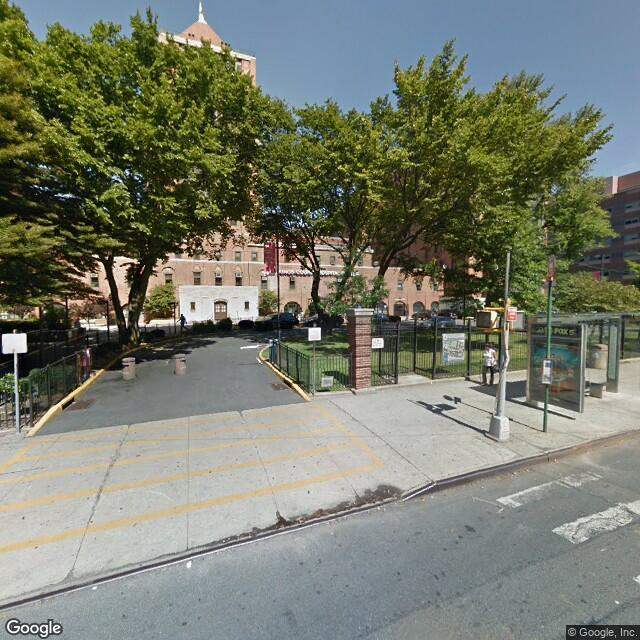litter: (471, 496, 505, 514), (613, 599, 622, 607), (187, 560, 193, 569), (90, 585, 99, 590)
